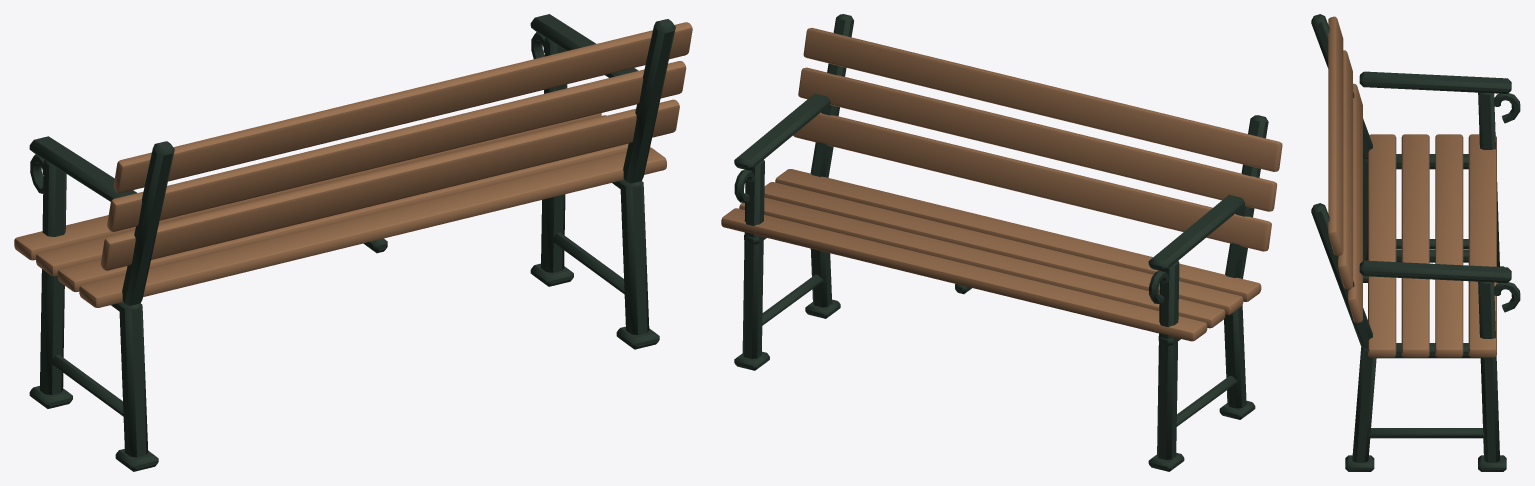
Rendered from Bench.fbx.
3 renders of one model, left to right at view 1: azimuth 30°, elevation 25°; view 2: azimuth 150°, elevation 25°; view 3: azimuth 270°, elevation 25°, orthographic. The views are drawn at different scales.
Visible parts, largest first — view 1: Bench; view 2: Bench; view 3: Bench.
Part boxes in pixels (left/top/right/bottom): Bench: left=14, top=14, right=692, bottom=471; Bench: left=721, top=14, right=1282, bottom=471; Bench: left=1311, top=14, right=1520, bottom=471.
Bounding box in the file's own units: 1.6 × 0.91 × 0.6543.
